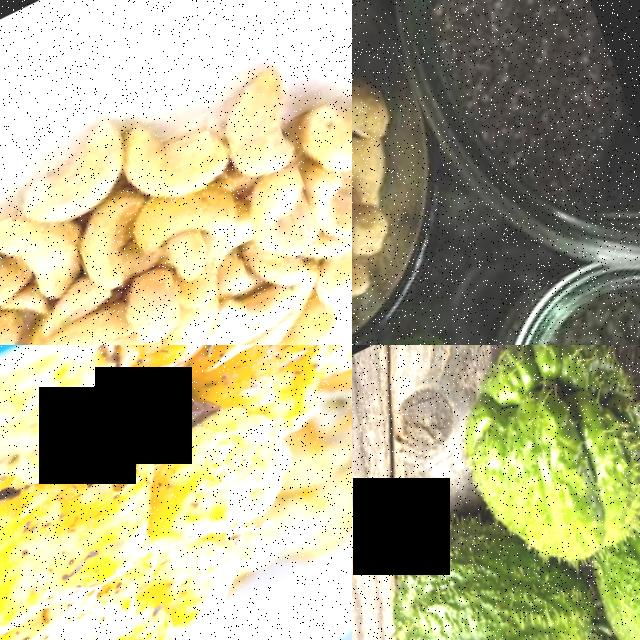cashew: (10, 90, 163, 241), (111, 84, 259, 227), (200, 44, 331, 201), (352, 65, 421, 233), (121, 243, 226, 345), (1, 201, 103, 305), (242, 165, 337, 276), (282, 55, 352, 190), (223, 264, 330, 345), (352, 201, 422, 302), (308, 149, 352, 252), (0, 228, 36, 337), (27, 316, 132, 345)
chayote: (434, 345, 640, 577), (377, 499, 607, 640)
